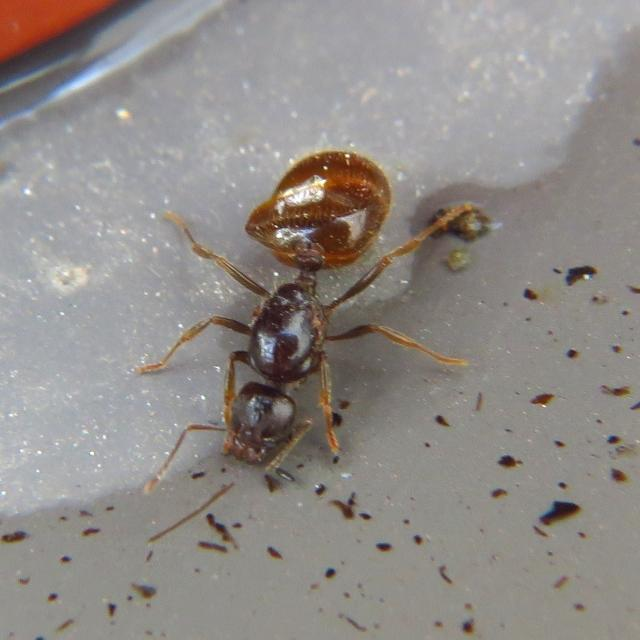Apheanogaster: (150, 123, 446, 523)
